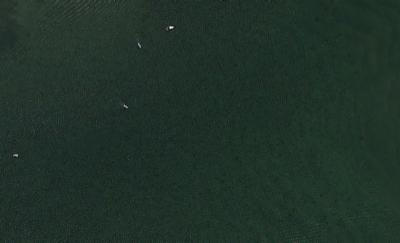Ships: (134, 37, 151, 54), (164, 19, 177, 36), (120, 101, 132, 115)
